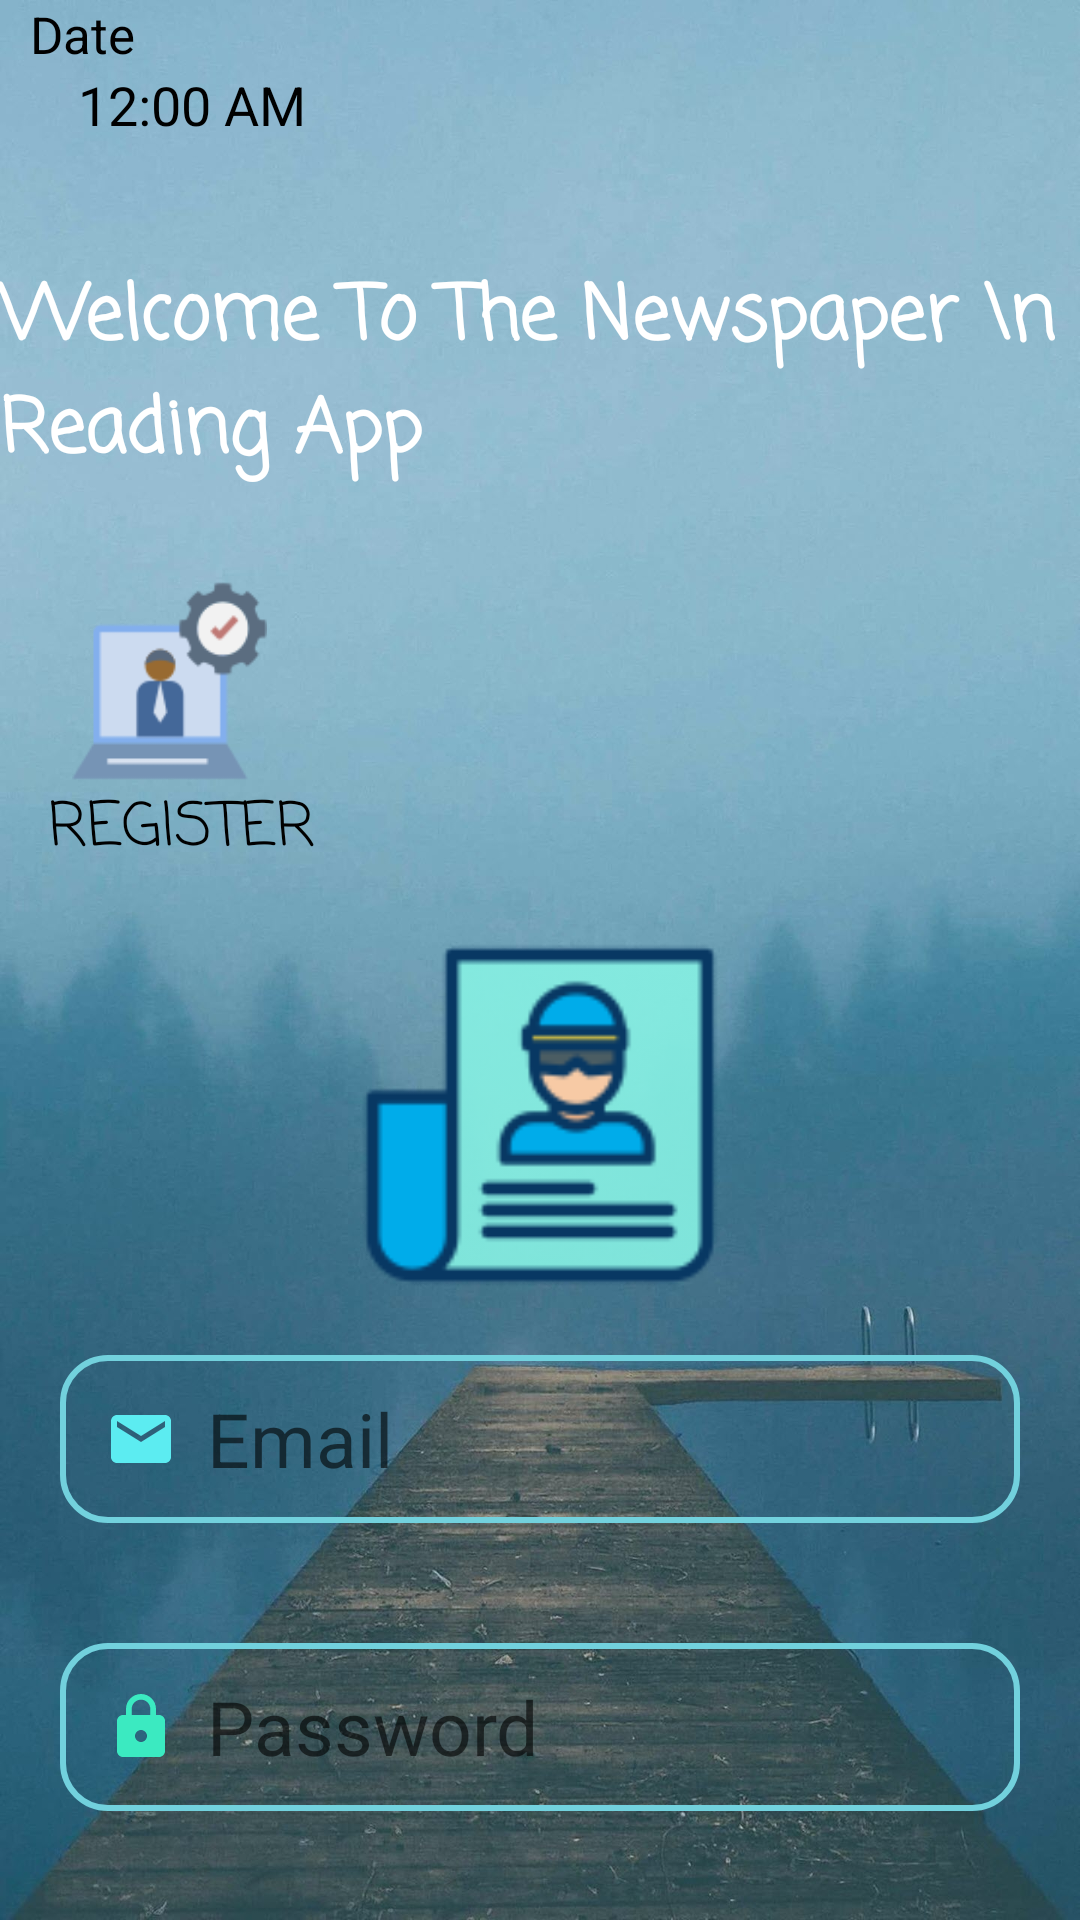

Named icons in this screenshot (1080×1920) and their centers, point (x, y):
newspaper: point (540, 1115)
